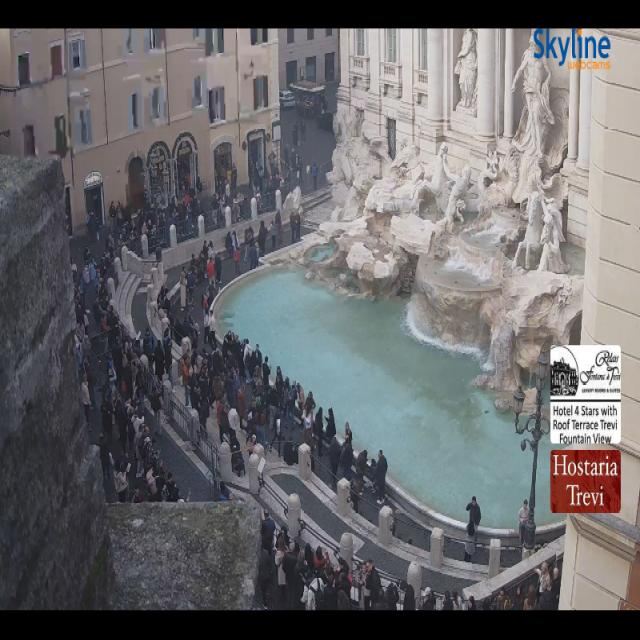person: (208, 333, 247, 407), (195, 320, 227, 403), (298, 549, 338, 610), (200, 307, 223, 403), (210, 348, 241, 408), (335, 558, 370, 608), (190, 326, 212, 405), (254, 359, 278, 429), (90, 235, 115, 293), (292, 542, 313, 610), (265, 366, 288, 427), (283, 541, 303, 610), (322, 553, 352, 597), (182, 317, 199, 390), (328, 556, 358, 597), (159, 297, 186, 341), (248, 161, 270, 213), (248, 352, 263, 427), (118, 350, 135, 415), (335, 558, 363, 597), (125, 348, 144, 405), (94, 291, 112, 350), (93, 266, 107, 341), (205, 352, 224, 402), (364, 559, 383, 605), (178, 193, 199, 234), (258, 549, 272, 610), (176, 179, 192, 232), (146, 457, 165, 501), (325, 556, 350, 589), (213, 179, 230, 227), (494, 585, 526, 610), (232, 334, 245, 395), (178, 193, 197, 234), (348, 461, 363, 512), (132, 409, 143, 478), (148, 459, 166, 501), (250, 161, 264, 213), (328, 436, 341, 490), (84, 249, 104, 284), (179, 193, 196, 234), (115, 395, 127, 453), (302, 577, 323, 610), (173, 317, 196, 347), (466, 497, 481, 543), (336, 559, 352, 602), (121, 348, 134, 399), (276, 537, 286, 603), (215, 183, 230, 227), (204, 264, 218, 310), (140, 426, 152, 477), (126, 205, 145, 237), (376, 450, 387, 504), (81, 374, 91, 433), (101, 394, 113, 443), (216, 401, 230, 442), (215, 187, 229, 227), (150, 211, 165, 248), (76, 299, 88, 345), (275, 366, 287, 411), (536, 563, 551, 599), (107, 304, 119, 349), (85, 359, 96, 408), (285, 381, 296, 429), (145, 466, 160, 501), (163, 326, 172, 384), (182, 356, 192, 408), (254, 408, 267, 448), (324, 573, 338, 610), (359, 563, 370, 610), (151, 388, 162, 435), (266, 163, 281, 196), (350, 476, 363, 513), (464, 522, 476, 562), (115, 462, 127, 502), (80, 262, 90, 309), (340, 440, 352, 479), (201, 285, 213, 324), (100, 306, 112, 345), (270, 418, 282, 457), (156, 286, 171, 316), (100, 434, 110, 479), (314, 408, 323, 457), (276, 523, 291, 552), (312, 546, 327, 575), (550, 567, 560, 610), (267, 163, 280, 196), (141, 329, 154, 362), (384, 582, 399, 610), (156, 286, 171, 314), (511, 584, 527, 610), (262, 523, 274, 557), (198, 397, 209, 434), (156, 285, 171, 312), (261, 522, 273, 555), (237, 385, 246, 429), (143, 328, 154, 364), (420, 587, 437, 610), (166, 472, 179, 502), (250, 237, 263, 267), (154, 342, 164, 381), (325, 408, 336, 443), (283, 438, 297, 465), (215, 163, 226, 197), (128, 405, 135, 458), (243, 341, 252, 382), (88, 211, 99, 244), (296, 382, 306, 418), (519, 500, 527, 545), (537, 590, 555, 610), (494, 589, 511, 610), (269, 167, 280, 199), (512, 585, 526, 610), (421, 587, 436, 610), (296, 382, 305, 420), (303, 408, 312, 446), (156, 286, 170, 310), (356, 450, 367, 479), (124, 222, 139, 243), (258, 220, 267, 254), (403, 585, 415, 610), (92, 298, 102, 328), (264, 510, 275, 537), (83, 247, 91, 284), (222, 331, 232, 360), (187, 269, 195, 305), (108, 360, 116, 396), (255, 161, 263, 197), (117, 201, 130, 223), (337, 590, 351, 610), (228, 408, 240, 431), (88, 258, 98, 285), (262, 357, 271, 387), (524, 586, 535, 610), (106, 236, 115, 265), (276, 211, 283, 248), (180, 268, 186, 311), (275, 167, 287, 188), (244, 227, 251, 263), (215, 253, 222, 288), (204, 308, 211, 343), (292, 148, 300, 178), (109, 200, 116, 234), (131, 487, 145, 504), (220, 481, 231, 501), (116, 201, 123, 232), (305, 390, 315, 411), (269, 220, 276, 250), (442, 591, 453, 610), (207, 259, 215, 285), (225, 232, 233, 258), (310, 440, 316, 473), (311, 162, 318, 190), (233, 247, 240, 275), (296, 154, 302, 186), (70, 258, 77, 284), (250, 244, 257, 270), (344, 422, 352, 444), (296, 206, 301, 240), (255, 344, 262, 368), (268, 150, 275, 174), (290, 211, 295, 244), (188, 254, 197, 272), (292, 122, 298, 148), (290, 148, 297, 170), (467, 596, 478, 610), (300, 118, 306, 143), (207, 241, 215, 259), (232, 229, 239, 249), (320, 97, 327, 115), (482, 599, 492, 610), (232, 163, 236, 190), (284, 144, 289, 165), (225, 180, 231, 197), (321, 96, 327, 113), (186, 174, 191, 193), (306, 166, 311, 183)
